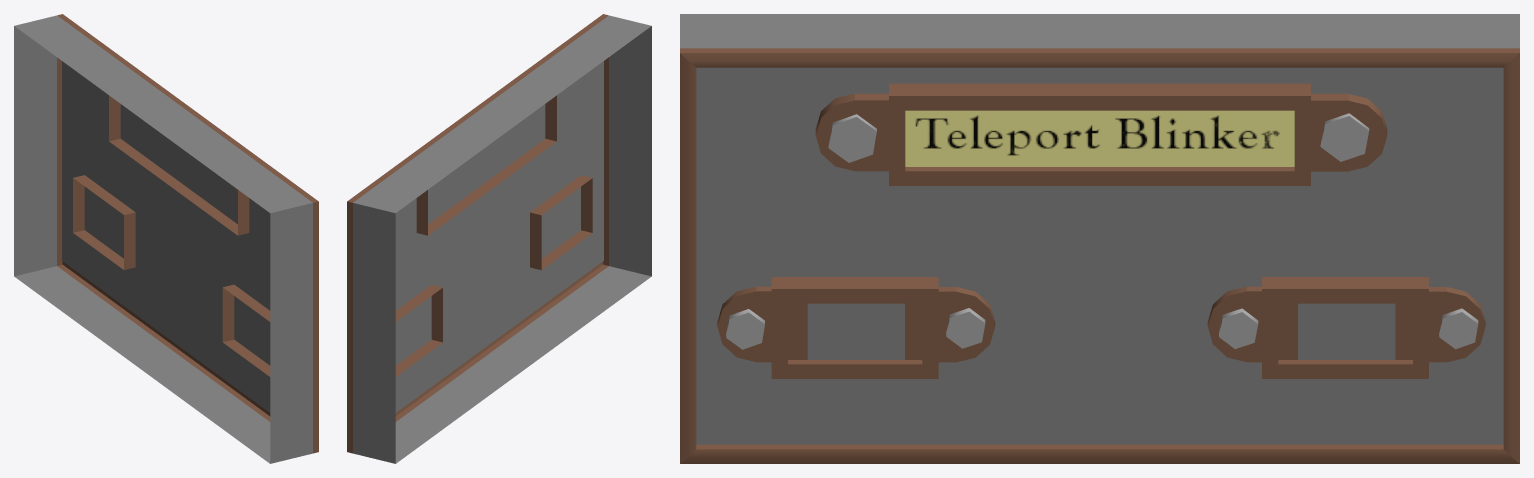
The model's file is SM_BlinkersSetttingsBase.FBX.
3 renders of one model, left to right at view 1: azimuth 30°, elevation 25°; view 2: azimuth 150°, elevation 25°; view 3: azimuth 270°, elevation 25°, orthographic. The views are drawn at different scales.
Visible parts, largest first — view 1: SM_BLinkersBase; view 2: SM_BLinkersBase; view 3: SM_BLinkersBase.
Part boxes in pixels (<box>): SM_BLinkersBase: <box>14,14,318,463</box>; SM_BLinkersBase: <box>347,14,651,463</box>; SM_BLinkersBase: <box>680,14,1519,463</box>.
Size of the model in its own units: 20.2 by 83.59 by 155.
